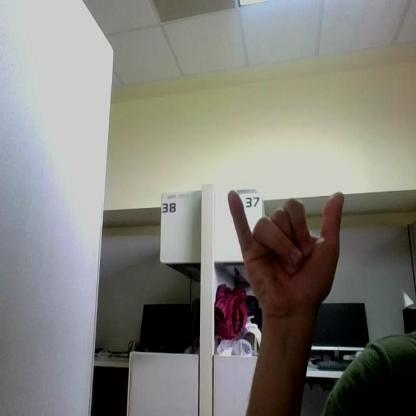Y: (228, 191, 344, 311)
